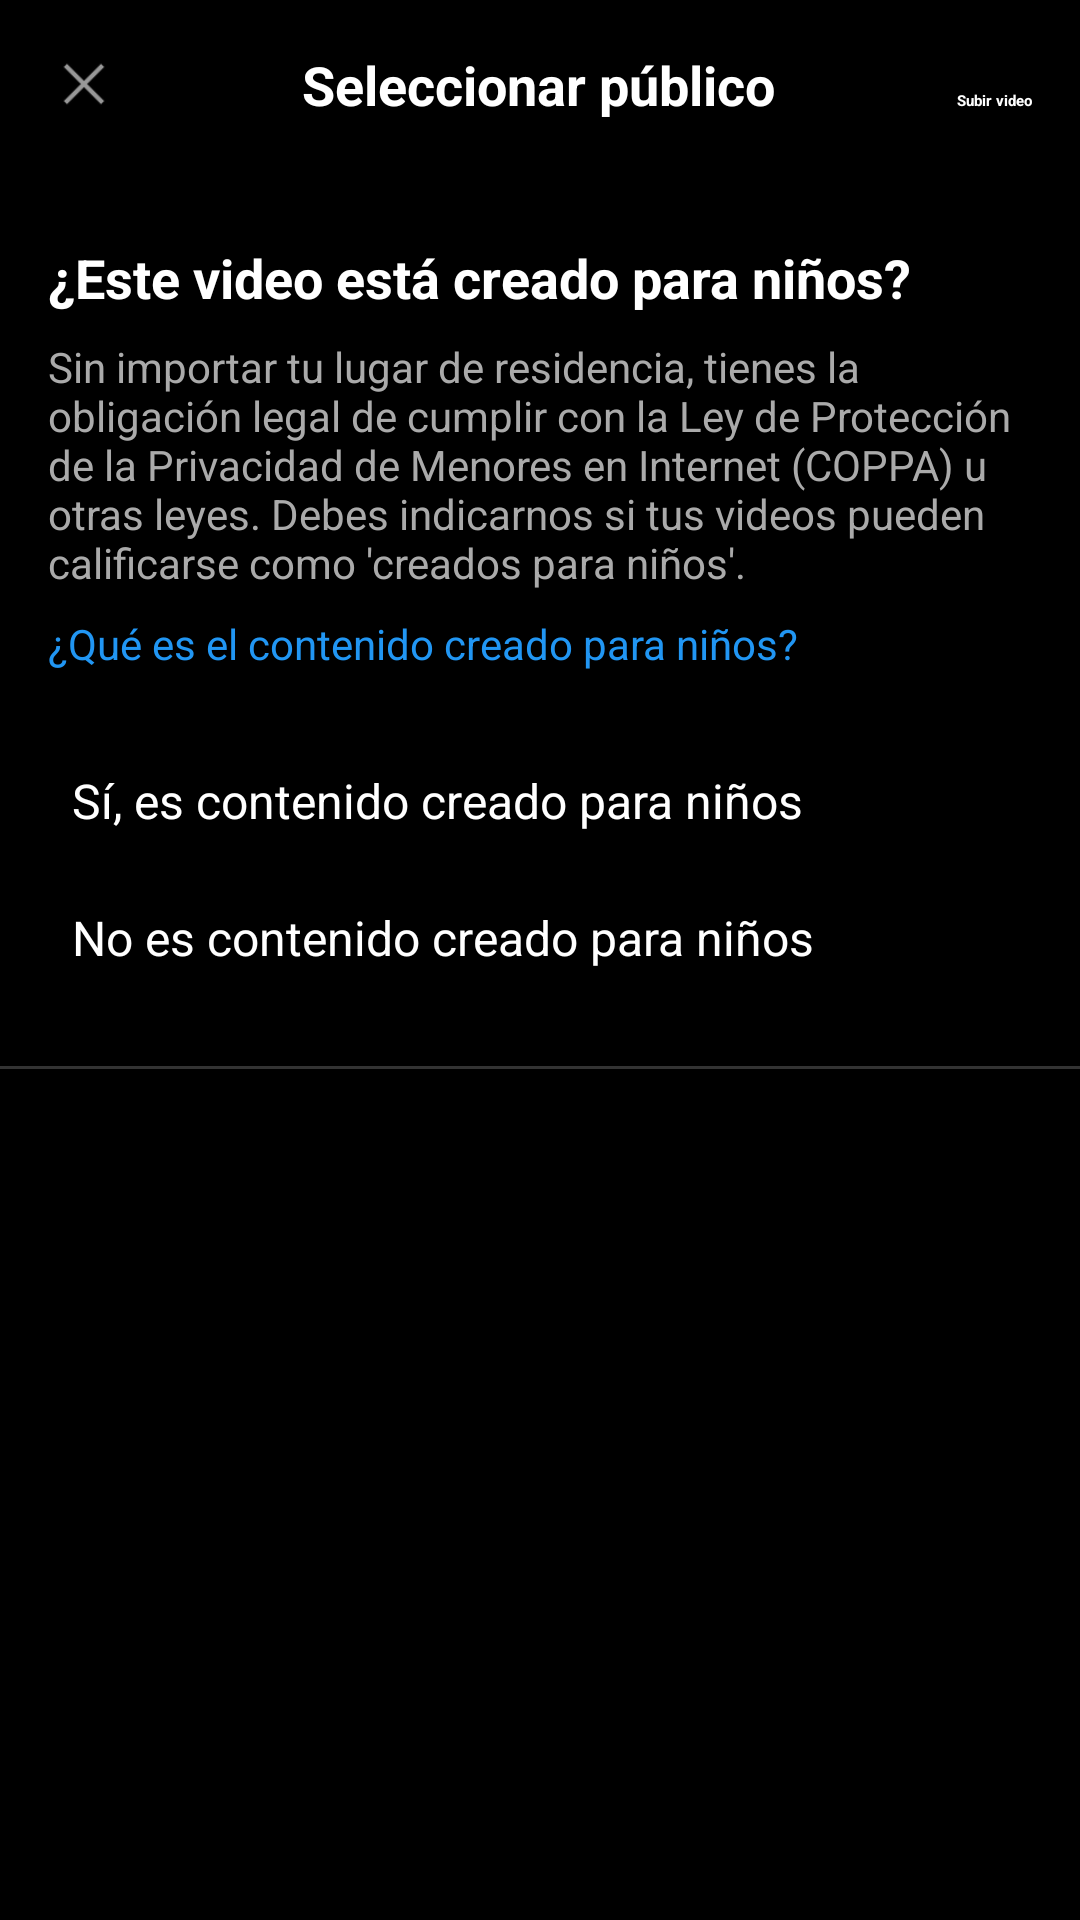

Point at icon controls on the screen. Image size 1080px x 1920px, points as (x=x, y=y).
close clear cancel: (x=84, y=84)
